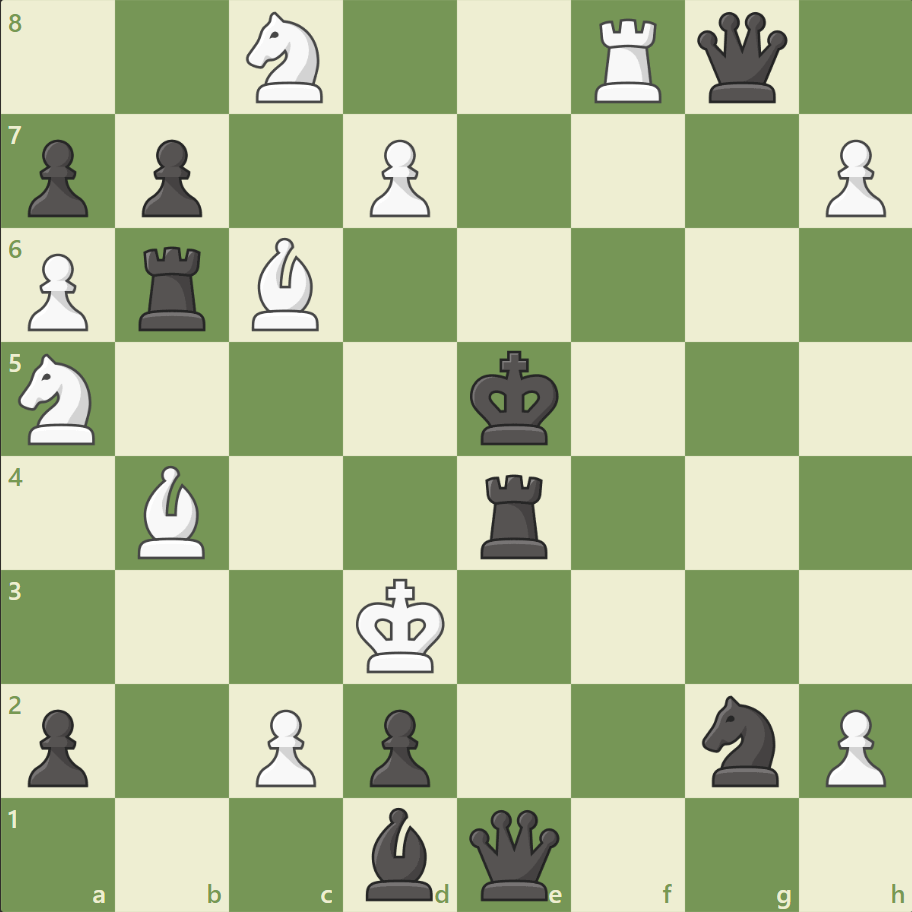B: (244, 233, 328, 336), (131, 460, 215, 563)
K: (351, 571, 451, 679)
N: (238, 7, 335, 110), (11, 348, 108, 450)
P: (20, 246, 95, 337), (247, 700, 322, 791), (361, 132, 435, 223), (815, 132, 889, 223), (815, 700, 889, 791)
R: (587, 12, 670, 109)
b: (358, 801, 442, 904)
k: (465, 344, 565, 452)
n: (692, 688, 789, 791)
p: (20, 132, 95, 223), (133, 132, 208, 223), (20, 700, 95, 791), (361, 700, 435, 791)
q: (691, 9, 790, 108), (464, 804, 563, 903)
r: (473, 466, 556, 563), (133, 239, 215, 336)
